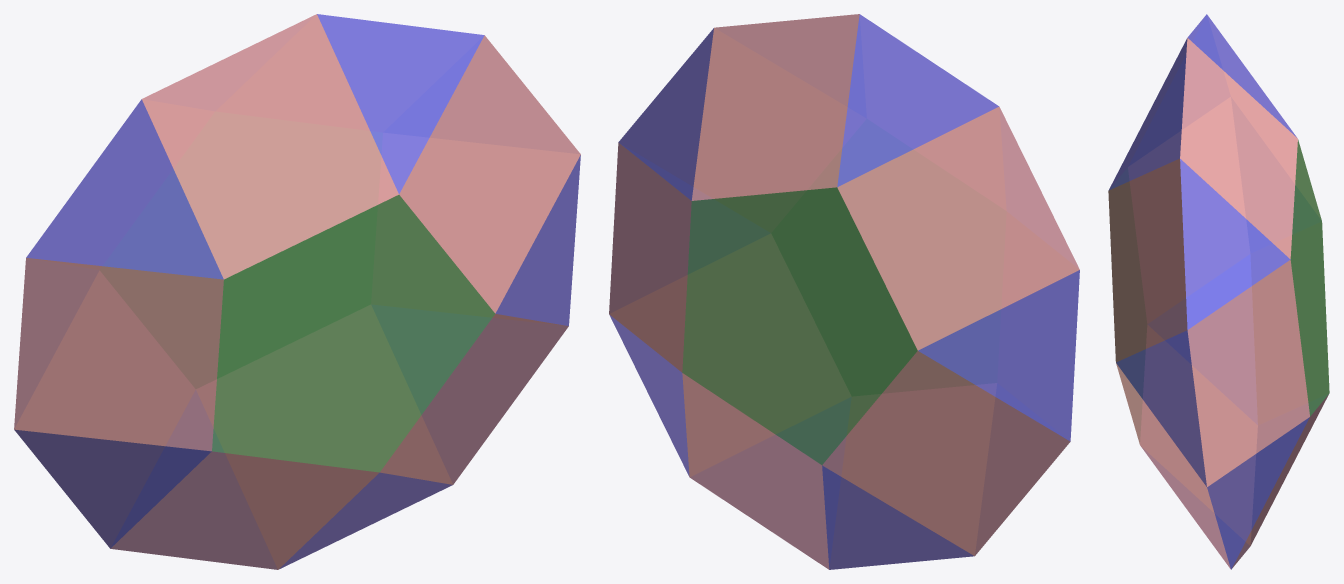
The model's file is j31_pentagonal_gyrobicupola.obj.
3 views of the same model, side by side, from view 1: azimuth 30°, elevation 25°; view 2: azimuth 150°, elevation 25°; view 3: azimuth 270°, elevation 25° (orthographic). The views are drawn at different scales.
Size of the model in its own units: 2.28 by 2.39 by 0.94.
